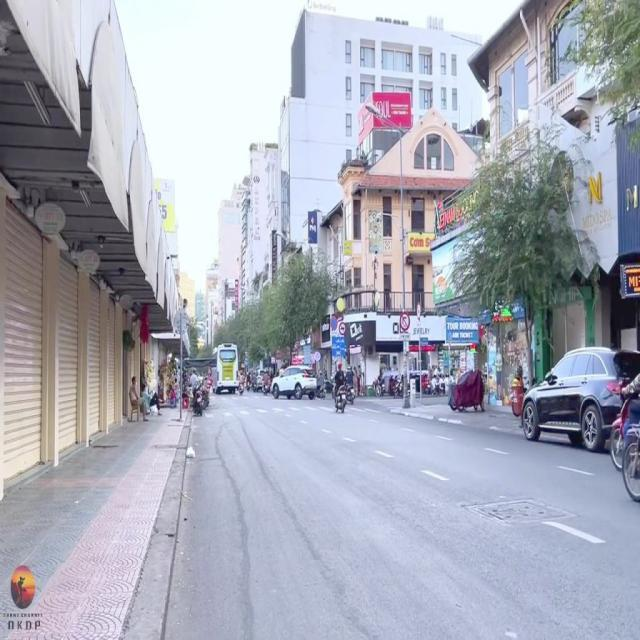106-cam-oto-tai: (339, 323, 346, 335)
123b-cam-re-phai: (398, 314, 410, 330)
